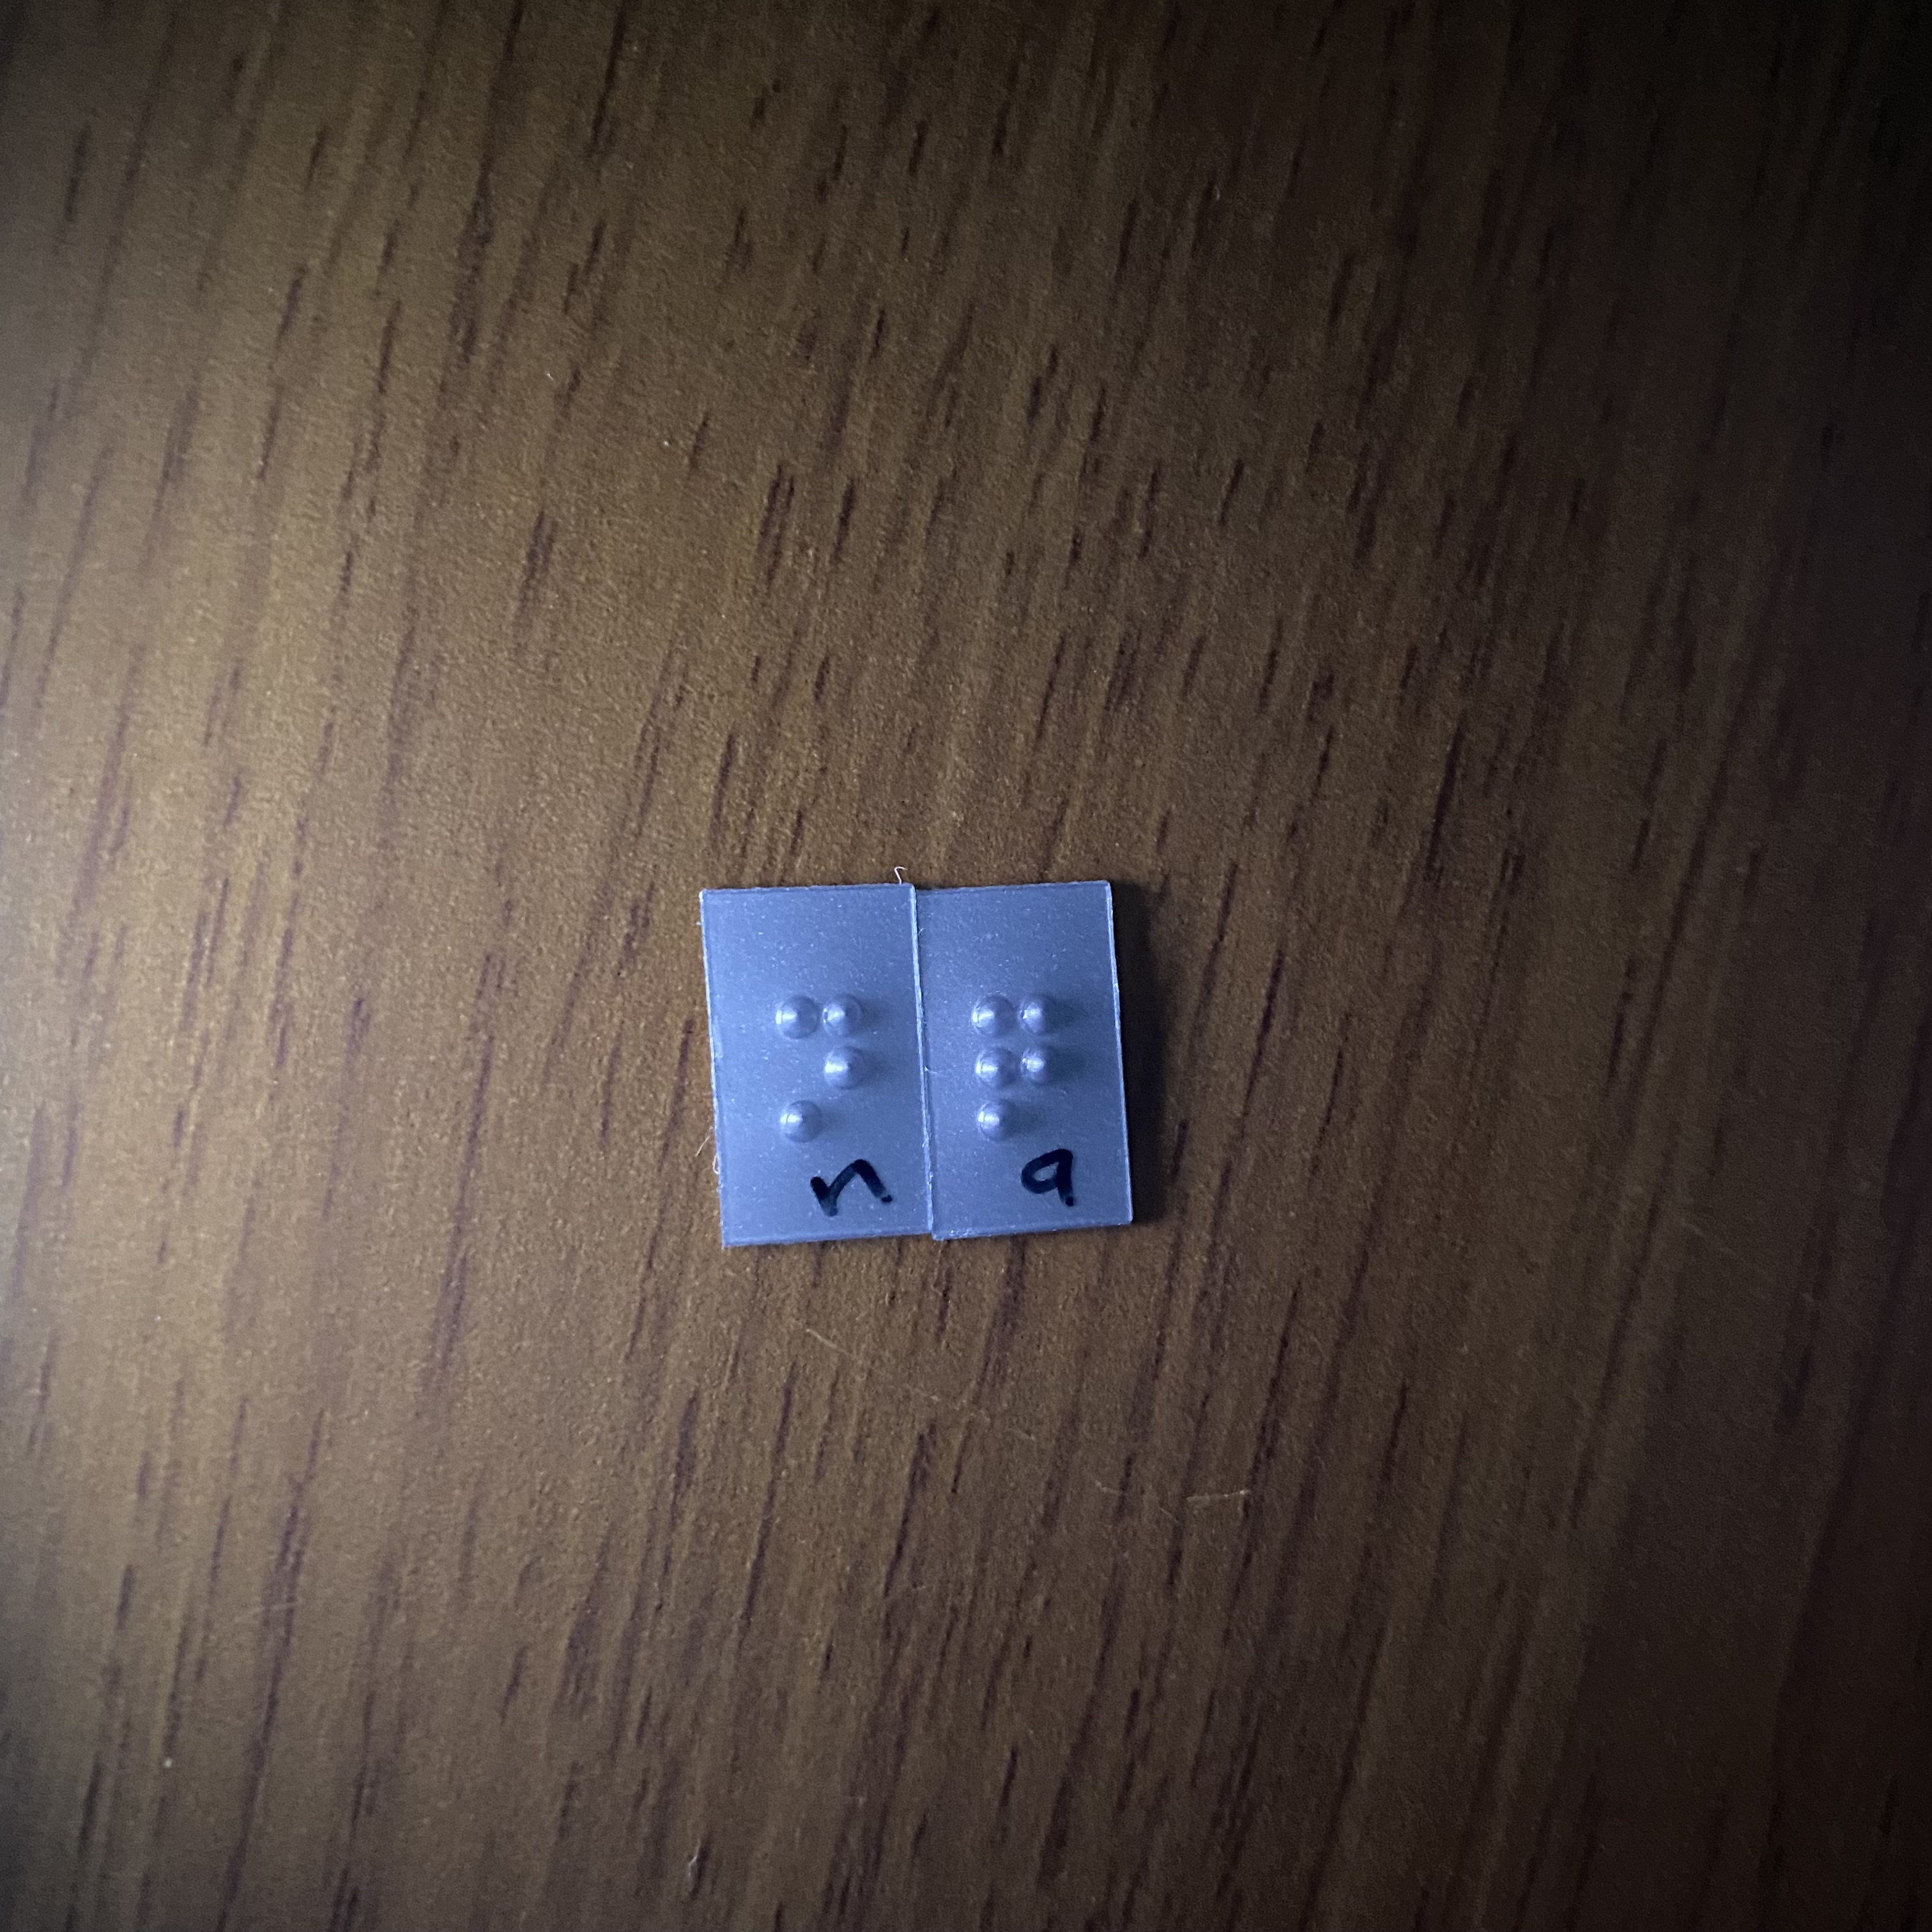n: (756, 969, 897, 1156)
q: (961, 985, 1091, 1150)
